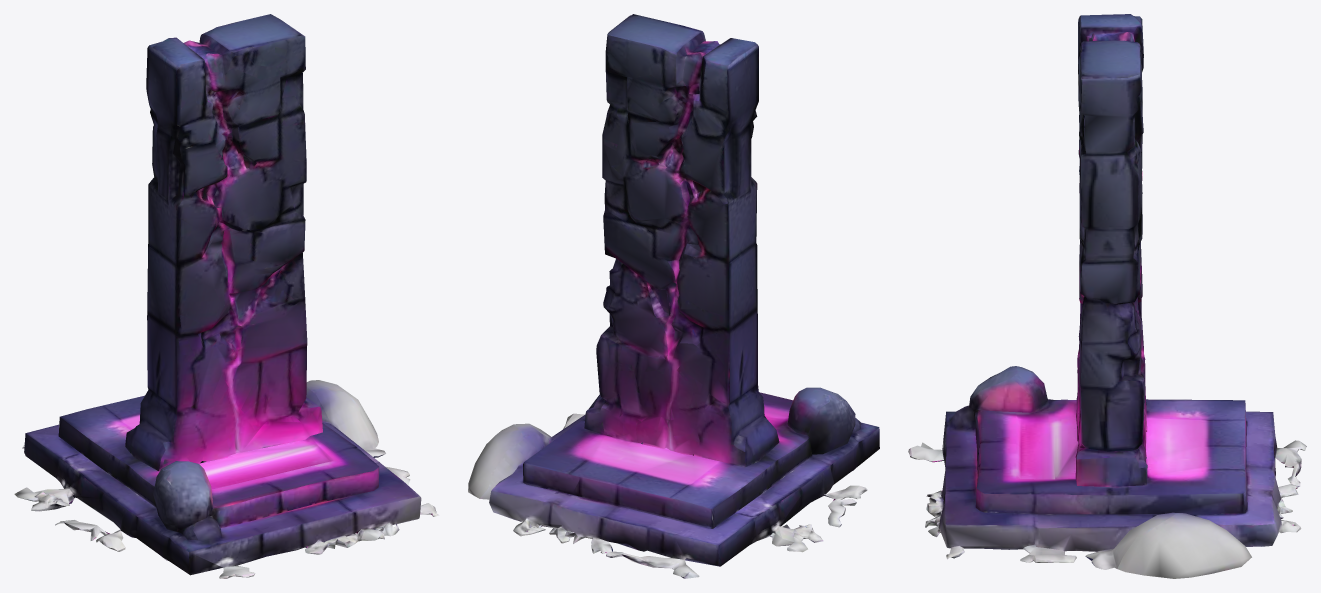
The model's file is yggdrasil-shrine-mimir-left.collider.glb.
The picture shows the model from 3 angles, left to right: view 1: azimuth 30°, elevation 25°; view 2: azimuth 150°, elevation 25°; view 3: azimuth 270°, elevation 25°; orthographic projection.
Parts seen in each view (by area): view 1: temp_mesh.ply; view 2: temp_mesh.ply; view 3: temp_mesh.ply.
Boxes of the visible parts, x1,y1,x2,y2 form: temp_mesh.ply: [14, 14, 439, 578]; temp_mesh.ply: [468, 14, 879, 578]; temp_mesh.ply: [908, 14, 1306, 578].
Bounding box in the file's own units: 1.56 × 1.97 × 1.57.
Materials: 1 (1 with a texture image).
